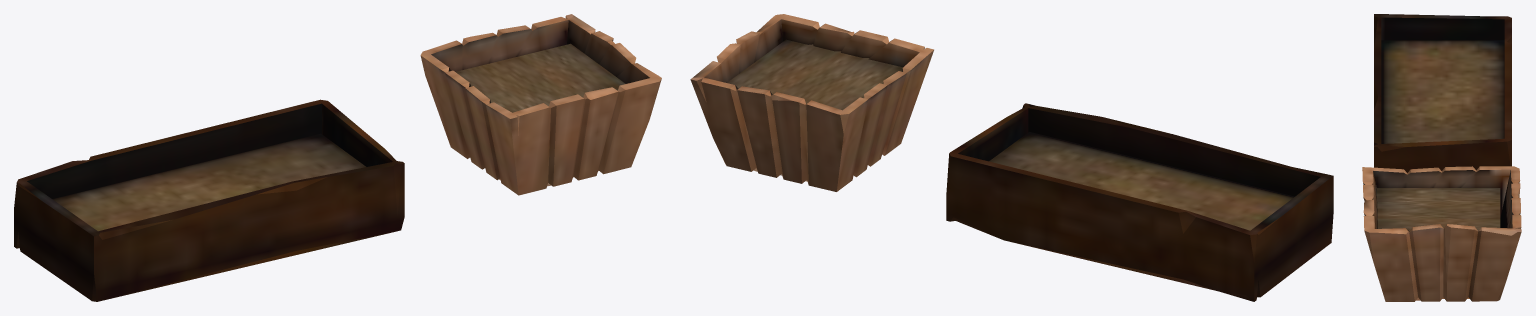
The model's file is long bed soil .fbx.
The picture shows the model from 3 angles, left to right: view 1: azimuth 30°, elevation 25°; view 2: azimuth 150°, elevation 25°; view 3: azimuth 270°, elevation 25°; orthographic projection. The views are drawn at different scales.
Visible parts, largest first — view 1: Long bed soil, short bed.soil; view 2: Long bed soil, short bed.soil; view 3: Long bed soil, short bed.soil.
Part boxes in pixels (x1,y1,x2,y2): Long bed soil: (14, 99, 404, 301); short bed.soil: (420, 14, 661, 195); Long bed soil: (946, 103, 1333, 301); short bed.soil: (690, 14, 933, 191); Long bed soil: (1374, 14, 1511, 172); short bed.soil: (1362, 166, 1521, 301).
Bounding box in the file's own units: 392 × 64.11 × 111.
